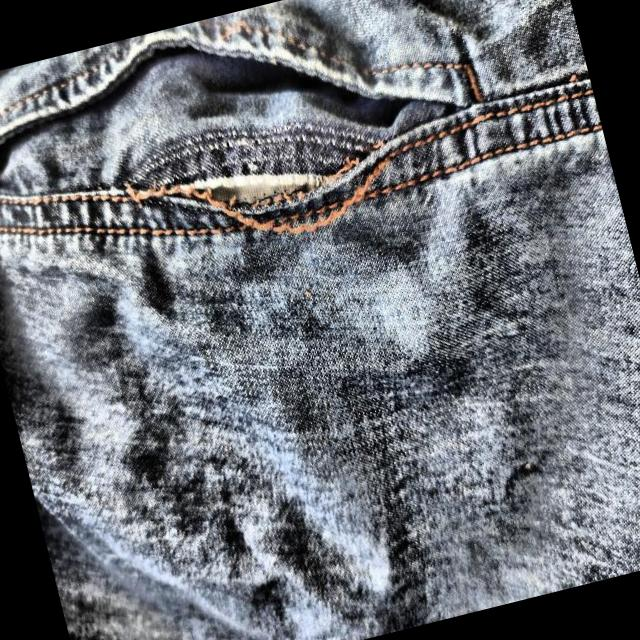gray stitch: (130, 134, 352, 276)
